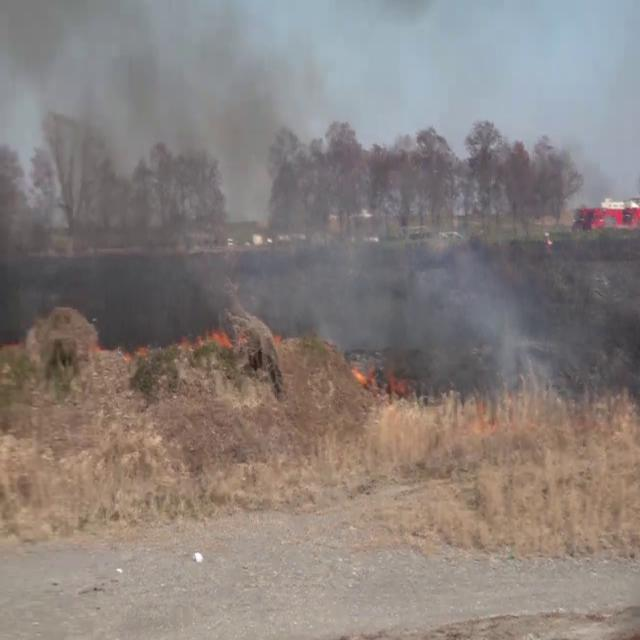Smoke: (1, 3, 609, 414)
